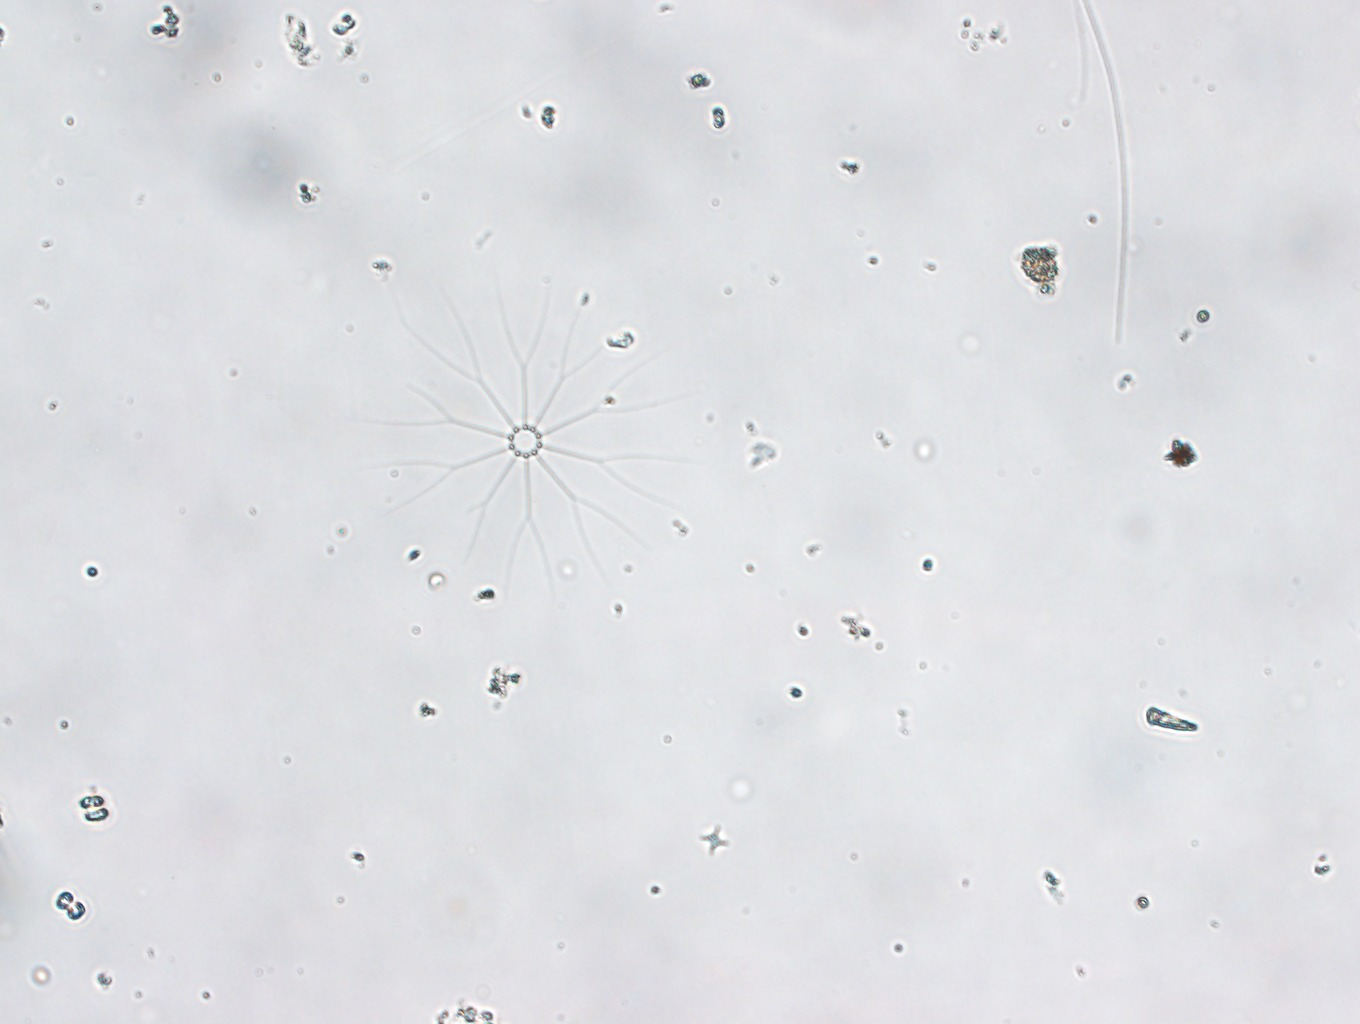bacteriastrum: (363, 272, 698, 595)
